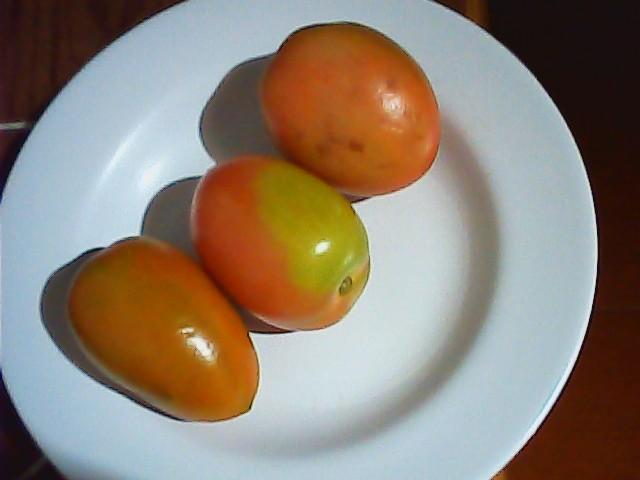verde: (68, 231, 263, 426), (256, 18, 444, 196), (186, 153, 371, 331)
